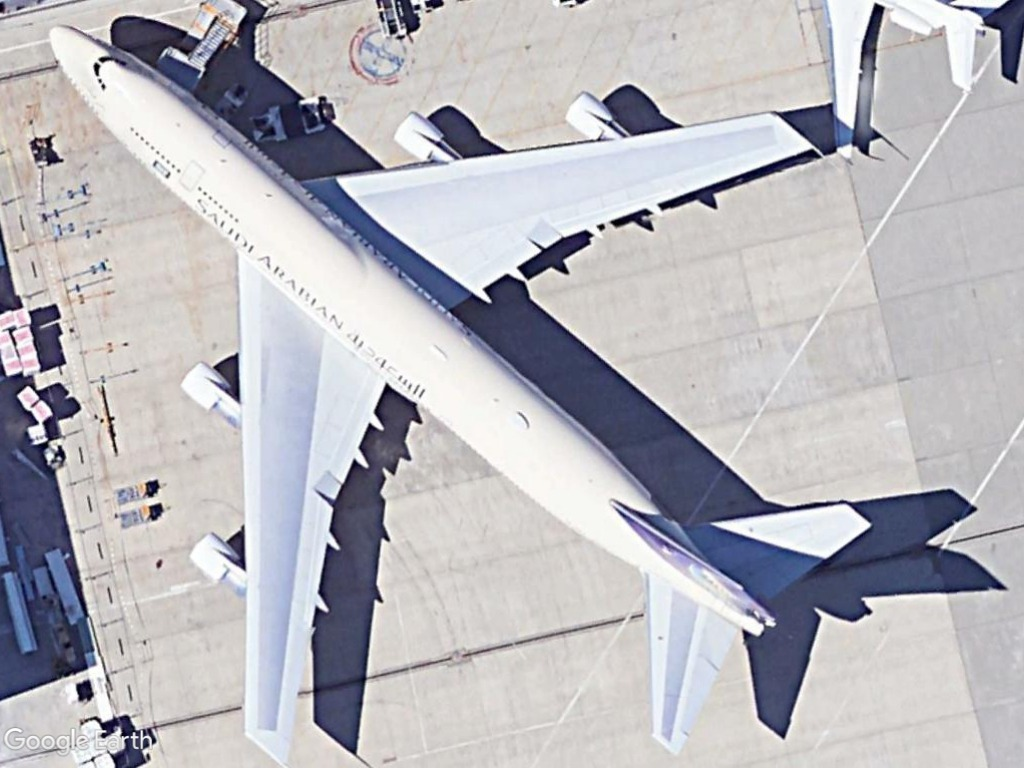airliner: (45, 23, 876, 757)
